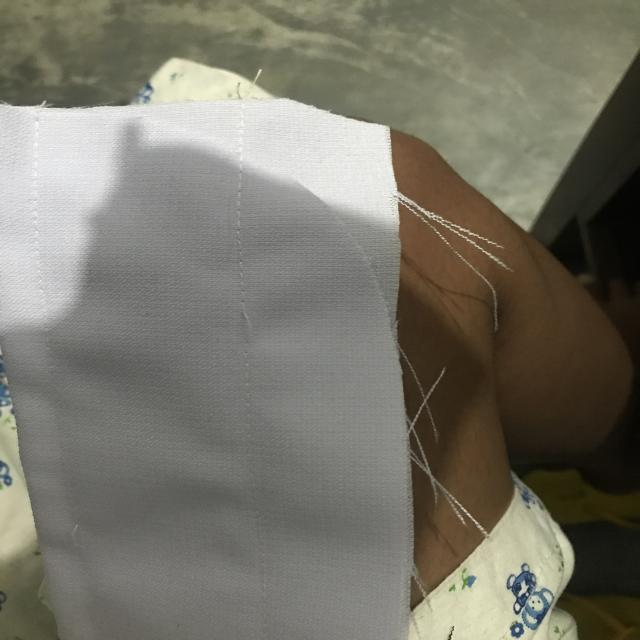good: (216, 189, 272, 262)
skip: (205, 287, 285, 369)
